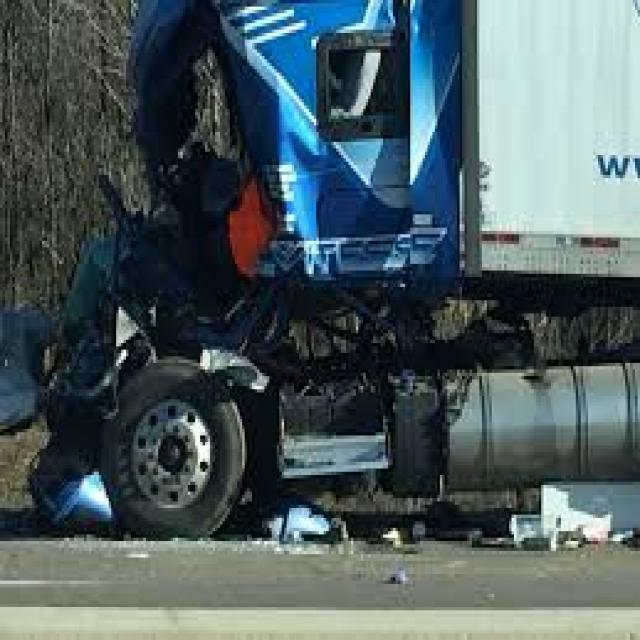accident: (7, 0, 640, 564)
